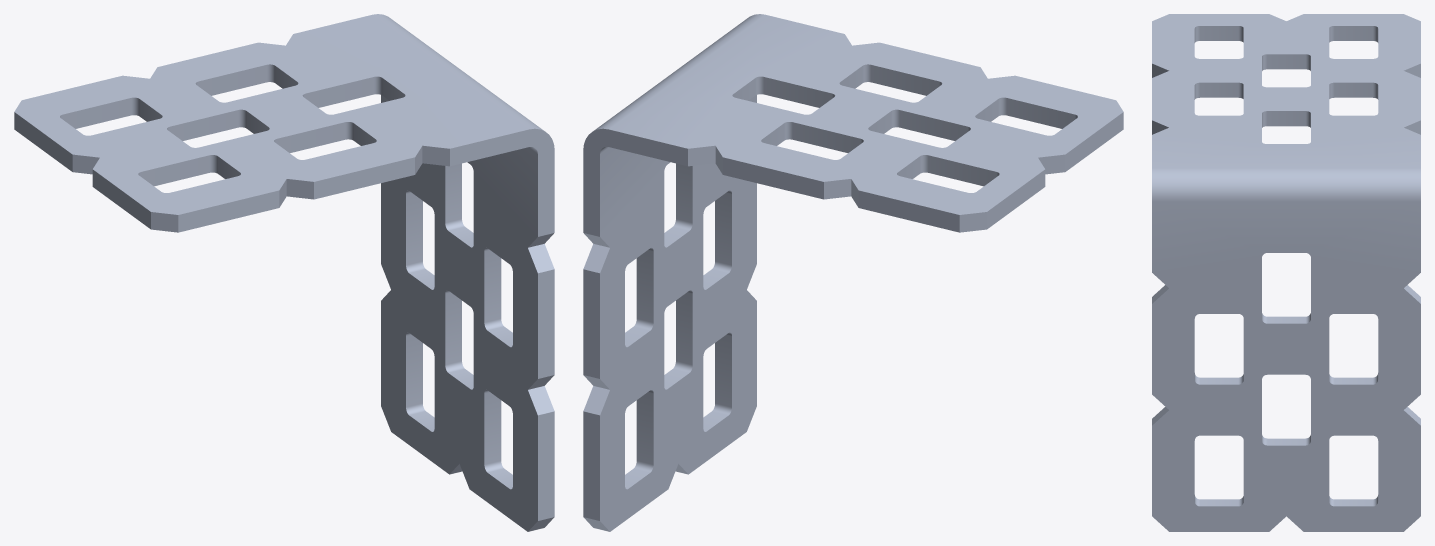
File: 90 Degree Bent Gusset (276-7761-002).glb
3 renders of one model, left to right at view 1: azimuth 30°, elevation 25°; view 2: azimuth 150°, elevation 25°; view 3: azimuth 270°, elevation 25°, orthographic. The views are drawn at different scales.
Visible parts, largest first — view 1: 276-7761-002 Rev1; view 2: 276-7761-002 Rev1; view 3: 276-7761-002 Rev1.
Part boxes in pixels (left/top/right/bottom): 276-7761-002 Rev1: left=14, top=14, right=554, bottom=531; 276-7761-002 Rev1: left=583, top=14, right=1123, bottom=531; 276-7761-002 Rev1: left=1152, top=14, right=1420, bottom=531.
Size of the model in its own units: 0.0368 by 0.0368 by 0.0254.
